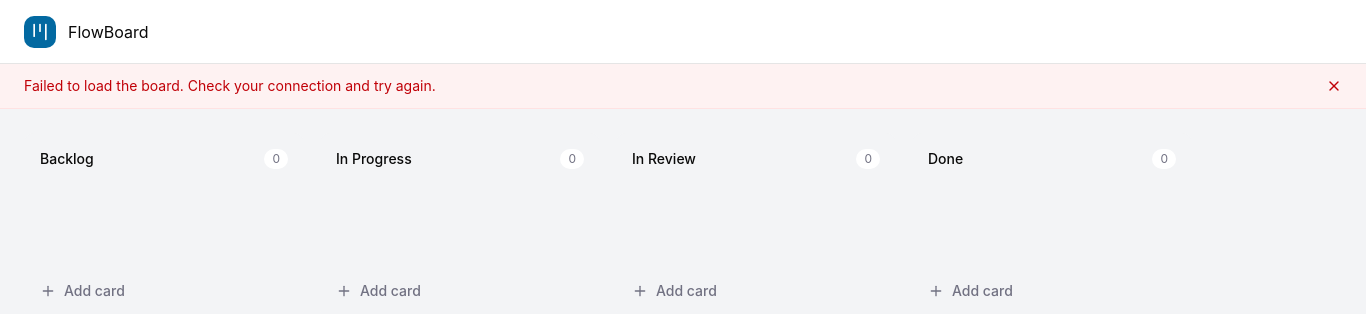
Test: App - error banner auto-dismiss › dismisses the error banner immediately when the dismiss button is clicked
Expected: the text "Failed to load the board. Check your connection and try again." is shown, top-left (24, 76), bottom-right (436, 96)
Click the button named "Dismiss" at (1334, 86), box top-left (1326, 78), bottom-right (1342, 94)
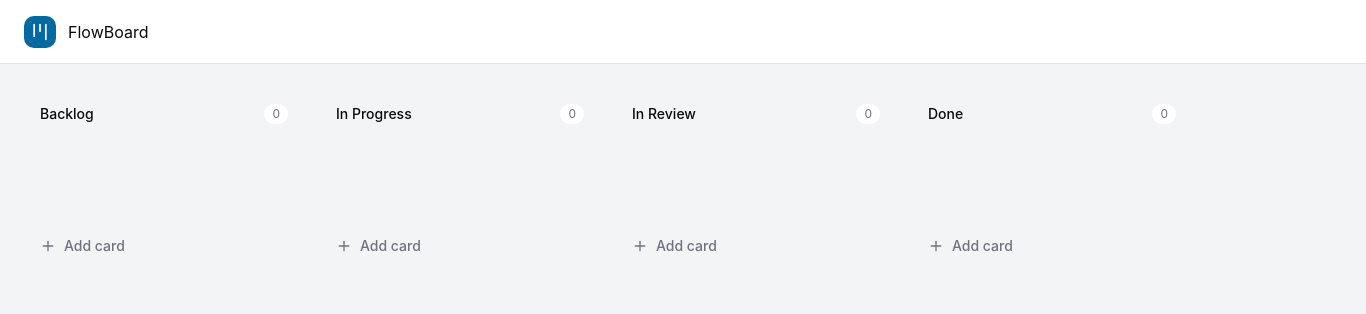
Now the text "Failed to load the board. Check your connection and try again." is gone
